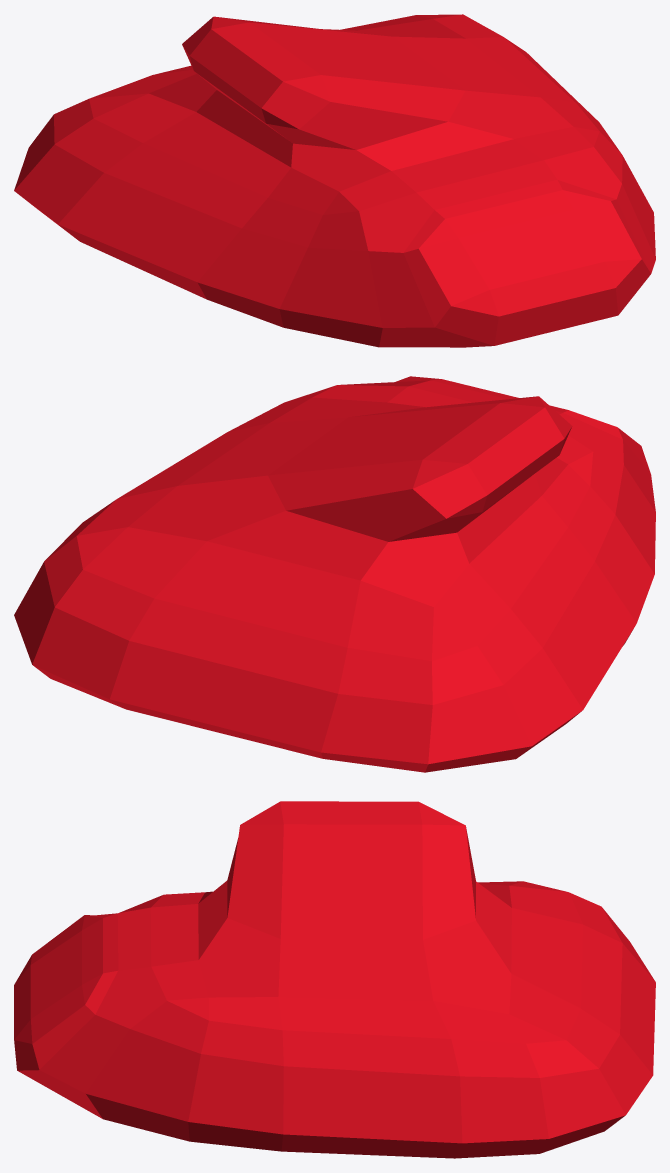
File: MediumRock01.fbx
3 views of the same model, one above another, from view 1: azimuth 30°, elevation 25°; view 2: azimuth 150°, elevation 25°; view 3: azimuth 270°, elevation 25° (orthographic). The views are drawn at different scales.
Parts seen in each view (by area): view 1: Cube; view 2: Cube; view 3: Cube.
Part boxes in pixels (box(x1,y1,x2,y2)): Cube: box(14, 14, 655, 347); Cube: box(14, 376, 655, 772); Cube: box(14, 801, 655, 1158).
Bounding box in the file's own units: 426 × 168 × 496.
